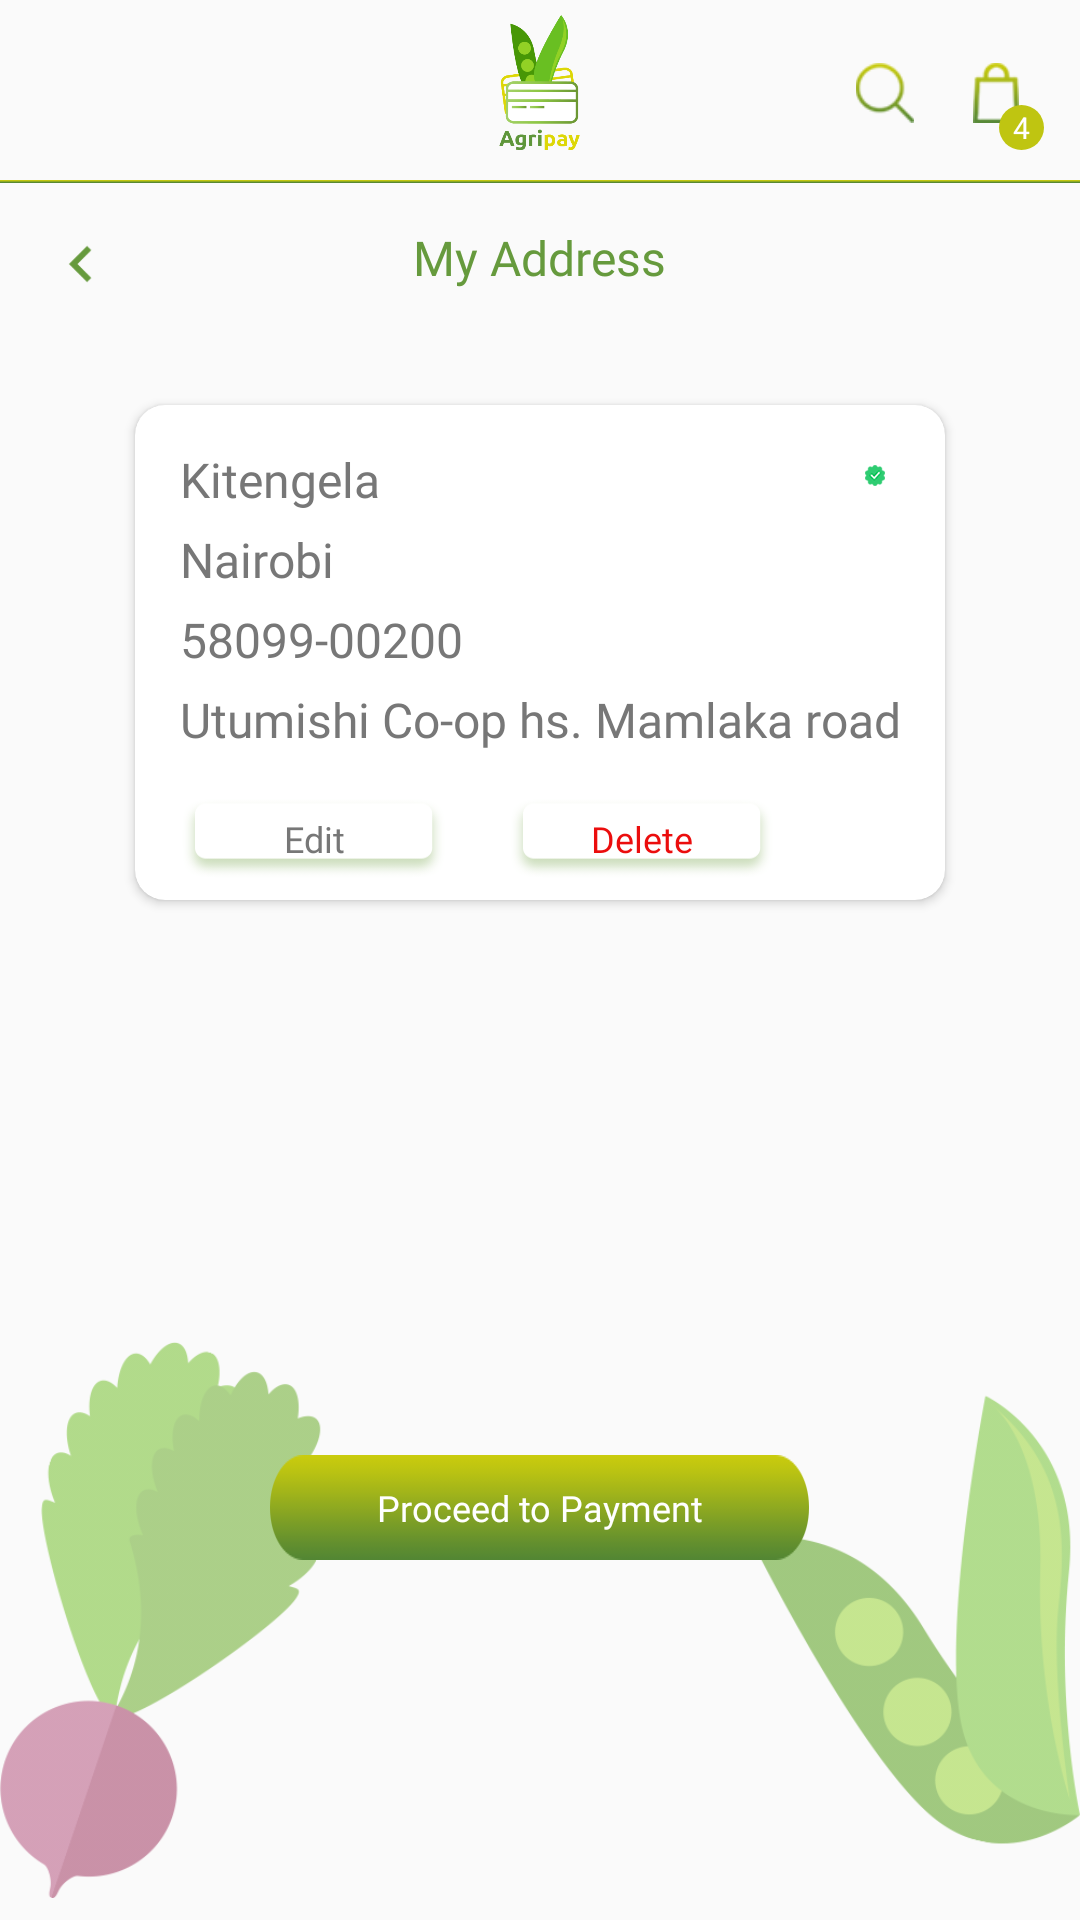

Where icons sit on this 1080w x 1920h app screen, as rect(x1, y1, x2, y2):
chevron left: rect(69, 246, 91, 282)
search: rect(856, 63, 914, 123)
shop cart: rect(973, 63, 1026, 123)
